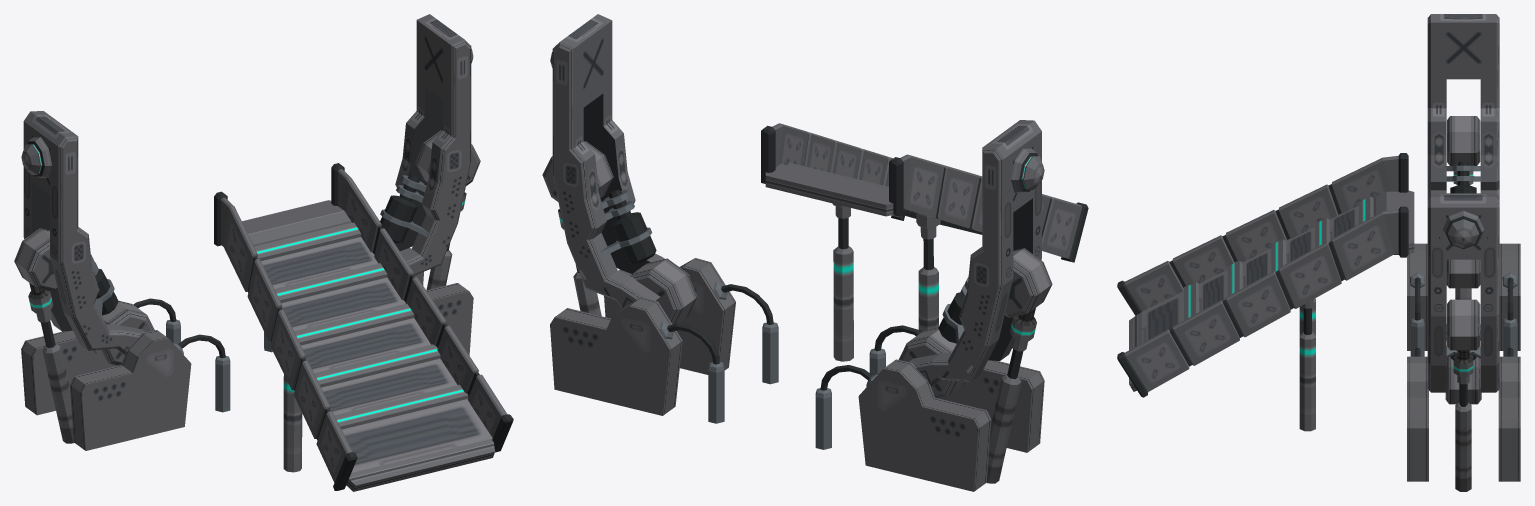
The model's file is SM_Bld_Warpgate_01.glb.
3 renders of one model, left to right at view 1: azimuth 30°, elevation 25°; view 2: azimuth 150°, elevation 25°; view 3: azimuth 270°, elevation 25°, orthographic. The views are drawn at different scales.
Visible parts, largest first — view 1: SM_Bld_Warpgate_01; view 2: SM_Bld_Warpgate_01; view 3: SM_Bld_Warpgate_01.
Part boxes in pixels (x1,y1,x2,y2): SM_Bld_Warpgate_01: (14,14,513,491); SM_Bld_Warpgate_01: (542,14,1088,491); SM_Bld_Warpgate_01: (1117,14,1520,491).
Size of the model in its own units: 8.31 by 5.67 by 6.83.
1 material, 1 textured.
